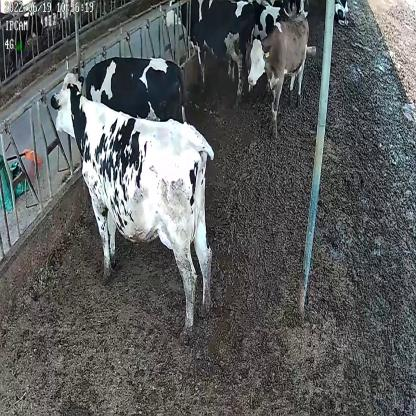cow: (48, 70, 216, 344), (162, 1, 257, 106), (247, 13, 311, 138), (77, 57, 188, 120), (335, 0, 350, 28)
